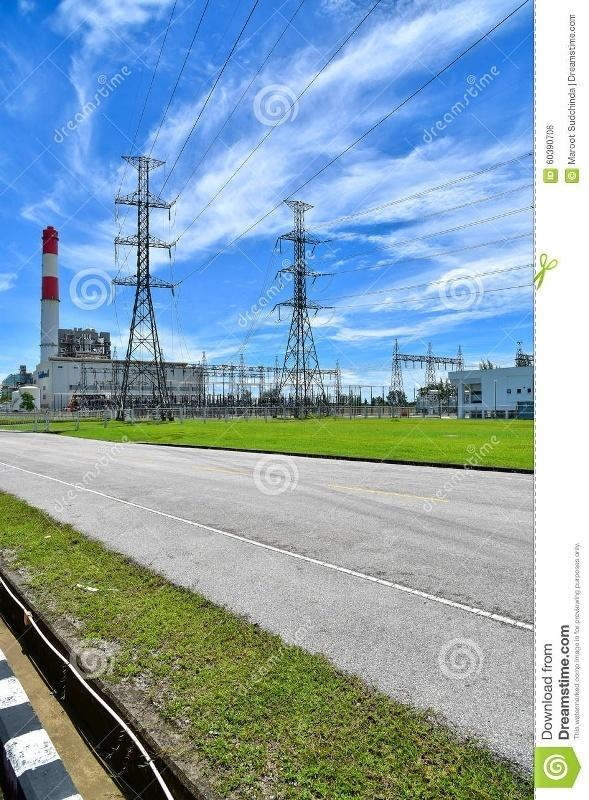power_tower: (113, 138, 190, 411), (275, 198, 339, 403)
